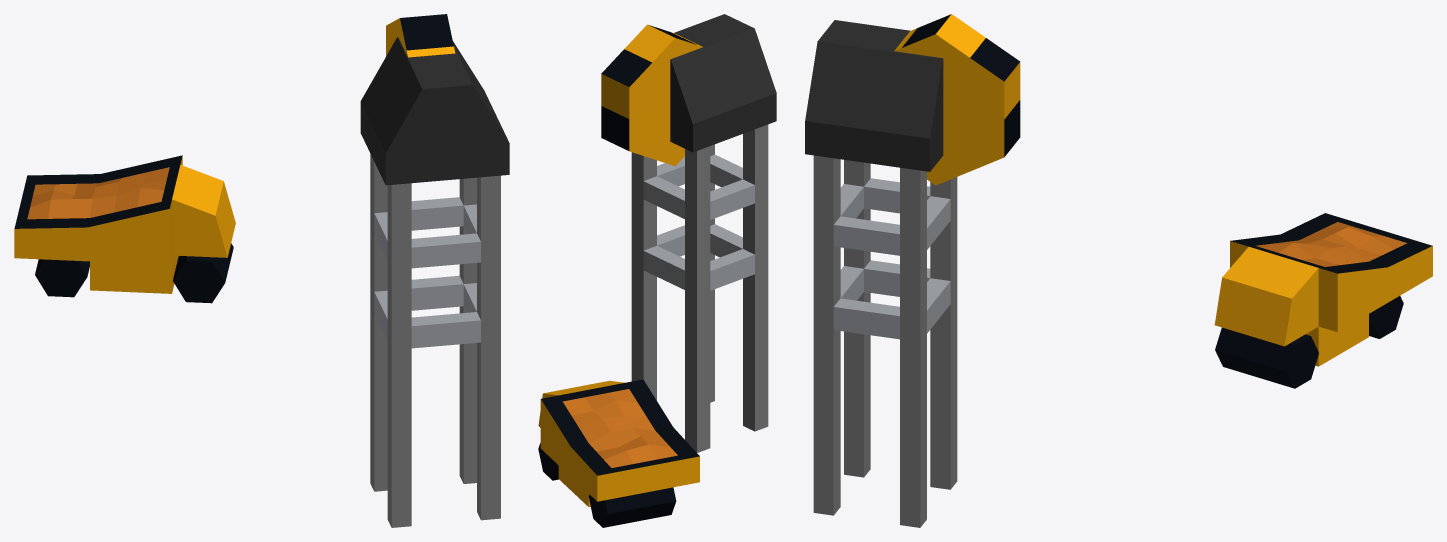
The model's file is Border_9_exploring.fbx.
3 views of the same model, side by side, from view 1: azimuth 30°, elevation 25°; view 2: azimuth 150°, elevation 25°; view 3: azimuth 270°, elevation 25° (orthographic). The views are drawn at different scales.
Visible parts, largest first — view 1: Cube.020, Cube.021, Cylinder.009; view 2: Cube.020, Cube.021, Cylinder.009; view 3: Cube.020, Cube.021, Cylinder.009.
Boxes of the visible parts, x1,y1,x2,y2 form: Cube.020: (360, 37, 509, 527); Cube.021: (14, 155, 235, 303); Cylinder.009: (386, 14, 455, 57); Cube.020: (631, 14, 776, 452); Cube.021: (538, 379, 699, 527); Cylinder.009: (601, 24, 702, 166); Cube.020: (805, 20, 957, 527); Cube.021: (1214, 213, 1432, 388); Cylinder.009: (894, 14, 1020, 185).
Bounding box in the file's own units: 101 × 158 × 186.
